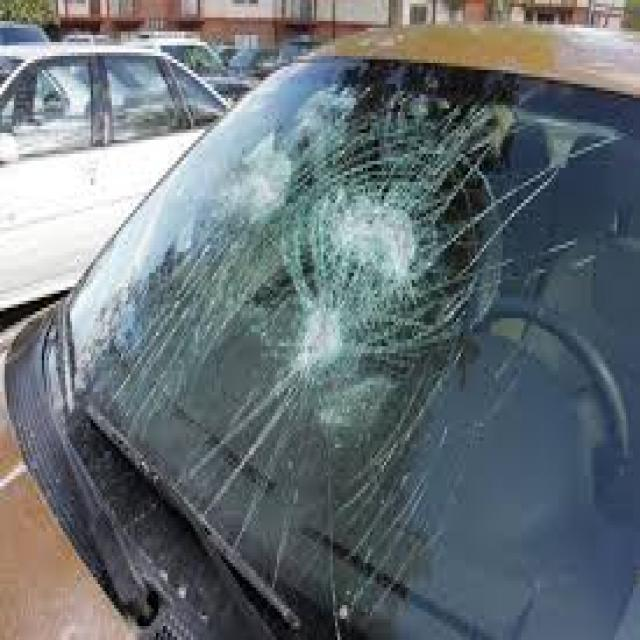minor: (122, 103, 516, 489)
